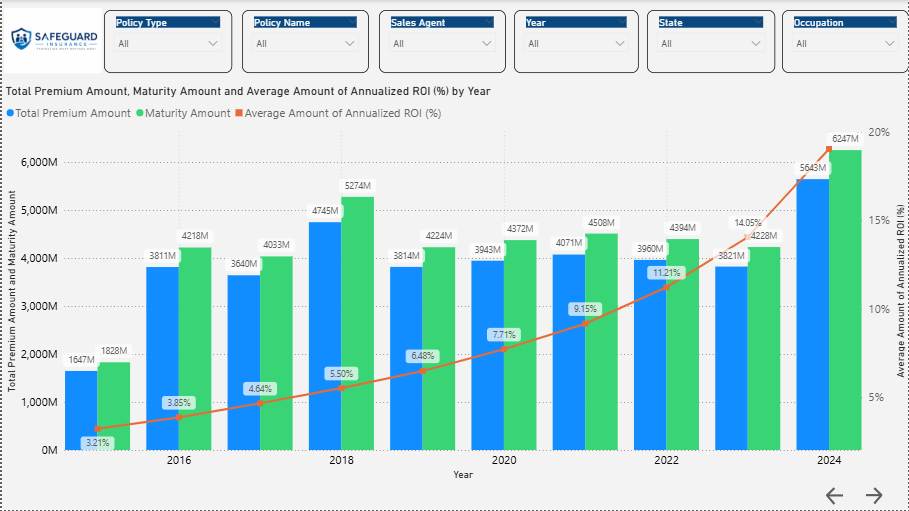

This screenshot's page, from the dashboard's own definition file:
{"tool":"powerbi","page":{"name":"Investment Amount vs Maturity Amount","canvas":[1280,720],"ordinal":2},"visuals":[{"type":"image","box":[0,11.3,144,91.8],"z":0},{"type":"slicer","fields":{"Values":["DM Policy_Type.Policy Type"]},"box":[144,14.1,180.7,88.9],"z":1000},{"type":"slicer","fields":{"Values":["DM Policy_Protection_Plan.Policy Name"]},"box":[338.8,14.1,179.3,88.9],"z":2000},{"type":"slicer","fields":{"Values":["DM Insurance_Agent_Table.Sales Agent"]},"box":[532.2,14.1,179.3,88.9],"z":3000},{"type":"slicer","fields":{"Values":["FCT Insurance_Policy_Table.Date of Purchase.Variation.Date Hierarchy.Year"]},"box":[722.8,14.1,176.5,88.9],"z":4000},{"type":"slicer","fields":{"Values":["DM Customer_Detail_Table.State"]},"box":[910.6,14.1,180.7,88.9],"z":5000},{"type":"slicer","fields":{"Values":["DM Customer_Detail_Table.Occupation"]},"box":[1101.2,14.1,179.3,88.9],"z":6000},{"type":"lineClusteredColumnComboChart","fields":{"Y":["Sum(FCT Insurance_Policy_Table.Total Premium Amount)","Sum(FCT Insurance_Policy_Table.Maturity Amount)"],"Y2":["Avg(FCT Insurance_Policy_Table.Annualized ROI (%))"],"Category":["FCT Insurance_Policy_Table.Start Date.Variation.Date Hierarchy.Year"]},"box":[0,118.6,1280.5,564.7],"z":7000},{"type":"actionButton","box":[1214.1,683.3,55,33],"z":8000},{"type":"actionButton","box":[1159.1,683.3,55.1,33.9],"z":9000}]}

Visuals, with their boxes in screenshot pixels (x1, y1, x2, y2), scaled from the page's 1280x720 canvas onto the 909x511 screenshot:
image: 0,8,102,73
slicer - DM Policy_Type.Policy Type: 102,10,231,73
slicer - DM Policy_Protection_Plan.Policy Name: 241,10,368,73
slicer - DM Insurance_Agent_Table.Sales Agent: 378,10,505,73
slicer - FCT Insurance_Policy_Table.Date of Purchase.Variation.Date Hierarchy.Year: 513,10,639,73
slicer - DM Customer_Detail_Table.State: 647,10,775,73
slicer - DM Customer_Detail_Table.Occupation: 782,10,908,73
lineClusteredColumnComboChart - Sum(FCT Insurance_Policy_Table.Total Premium Amount) x Sum(FCT Insurance_Policy_Table.Maturity Amount): 0,84,908,485
actionButton: 862,485,901,508
actionButton: 823,485,862,509
